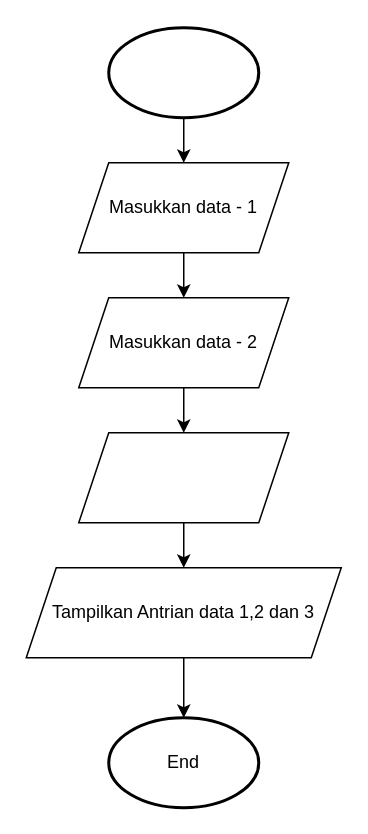
The diagram is 368 pixels wide and 834 high, and some of its shapes have lost their labels. Here are the shapes that lost their labels. From the top down, the centre of each, then its label:
At point (183, 72): "Start".
At point (183, 477): "Masukkan data - 3".
